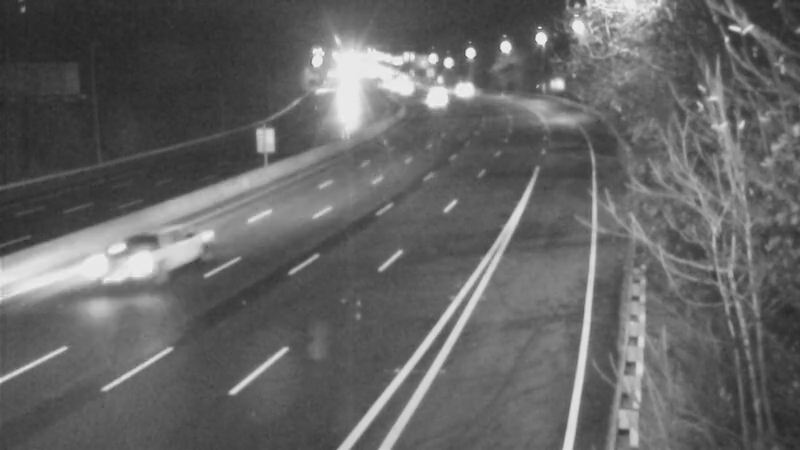vehicle: (90, 220, 170, 300), (439, 64, 489, 114), (412, 77, 462, 127), (315, 77, 365, 127)
